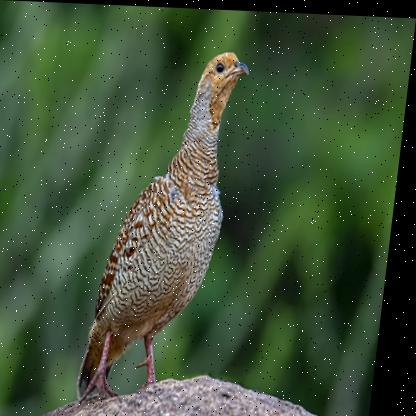Burung: (84, 44, 254, 409)
